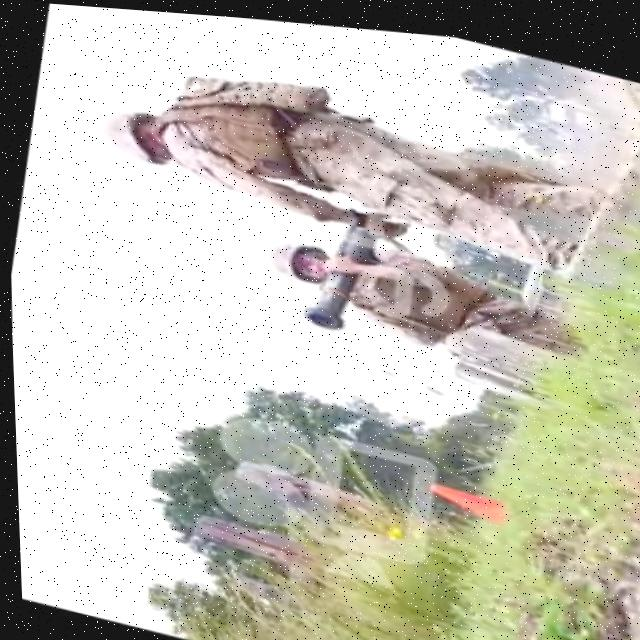rocket: (294, 194, 380, 334)
